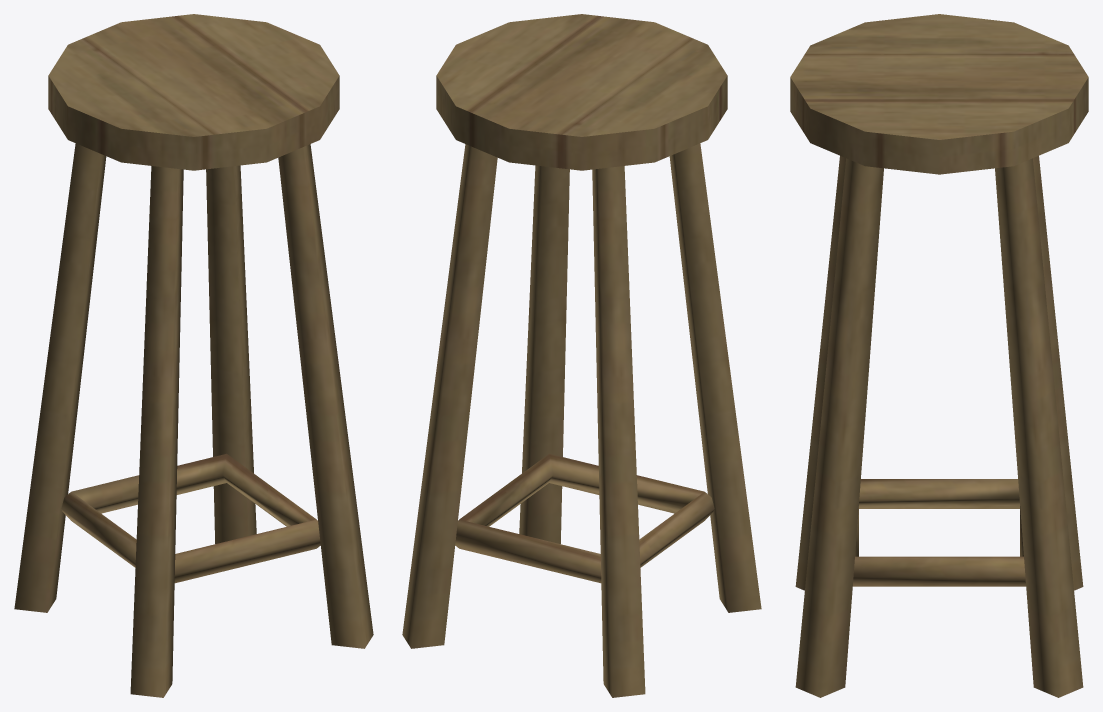
File: stool.glb
3 views of the same model, side by side, from view 1: azimuth 30°, elevation 25°; view 2: azimuth 150°, elevation 25°; view 3: azimuth 270°, elevation 25° (orthographic). The views are drawn at different scales.
Visible parts, largest first — view 1: stool; view 2: stool; view 3: stool.
Part boxes in pixels (box(x1,y1,x2,y2)): stool: box(14, 14, 373, 697); stool: box(402, 14, 761, 697); stool: box(790, 14, 1088, 697).
Bounding box in the file's own units: 0.3885 × 0.8048 × 0.3885.
1 material, 1 textured.
